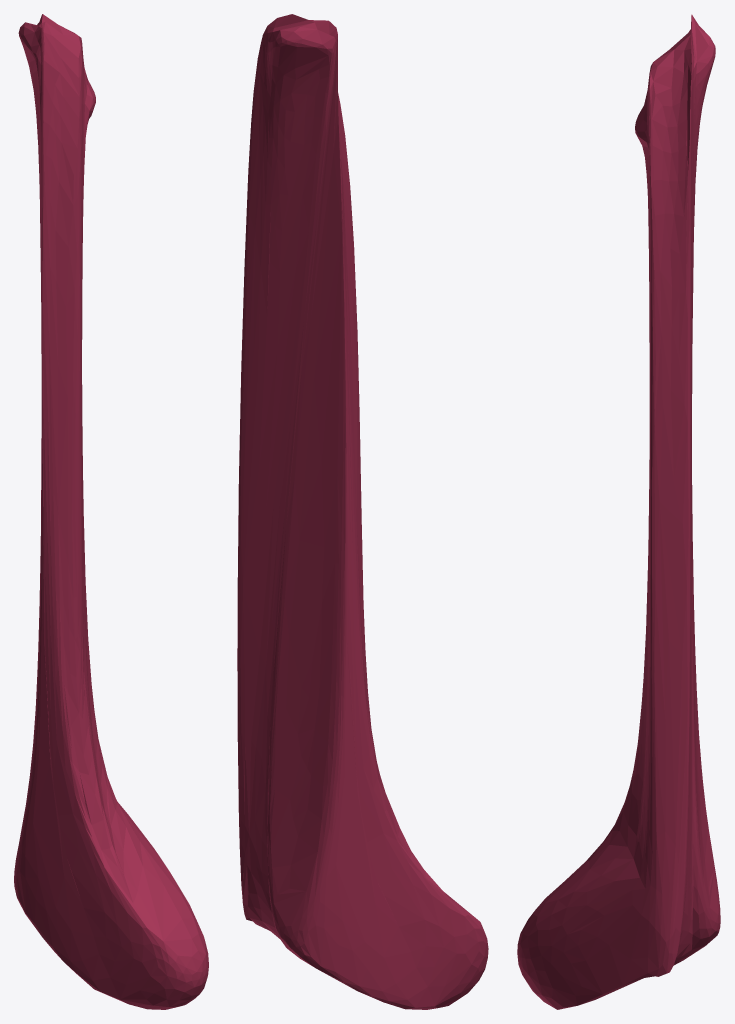
3 renders of one model, left to right at view 1: azimuth 90°, elevation 25°; view 2: azimuth 150°, elevation 25°; view 3: azimuth 270°, elevation 25°, orthographic. The views are drawn at different scales.
Parts seen in each view (by area): view 1: 309_Cube.1265; view 2: 309_Cube.1265; view 3: 309_Cube.1265.
Boxes of the visible parts, x1,y1,x2,y2 form: 309_Cube.1265: (14, 14, 208, 1009); 309_Cube.1265: (237, 14, 488, 1009); 309_Cube.1265: (517, 14, 720, 1009).
Size of the model in its own units: 2.43 by 12.6 by 2.32.
